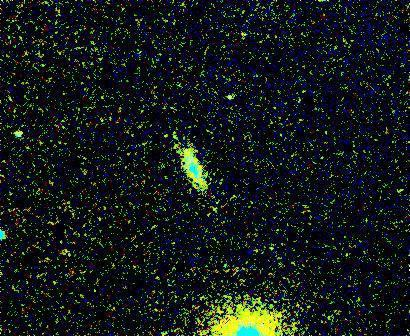star: (213, 83, 243, 113)
